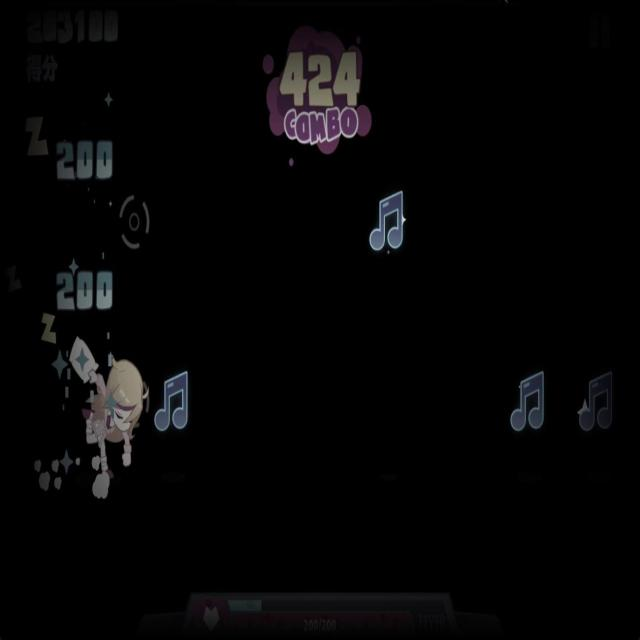Music note: (370, 188, 413, 258), (573, 376, 620, 440), (508, 368, 549, 432), (153, 370, 188, 436)
